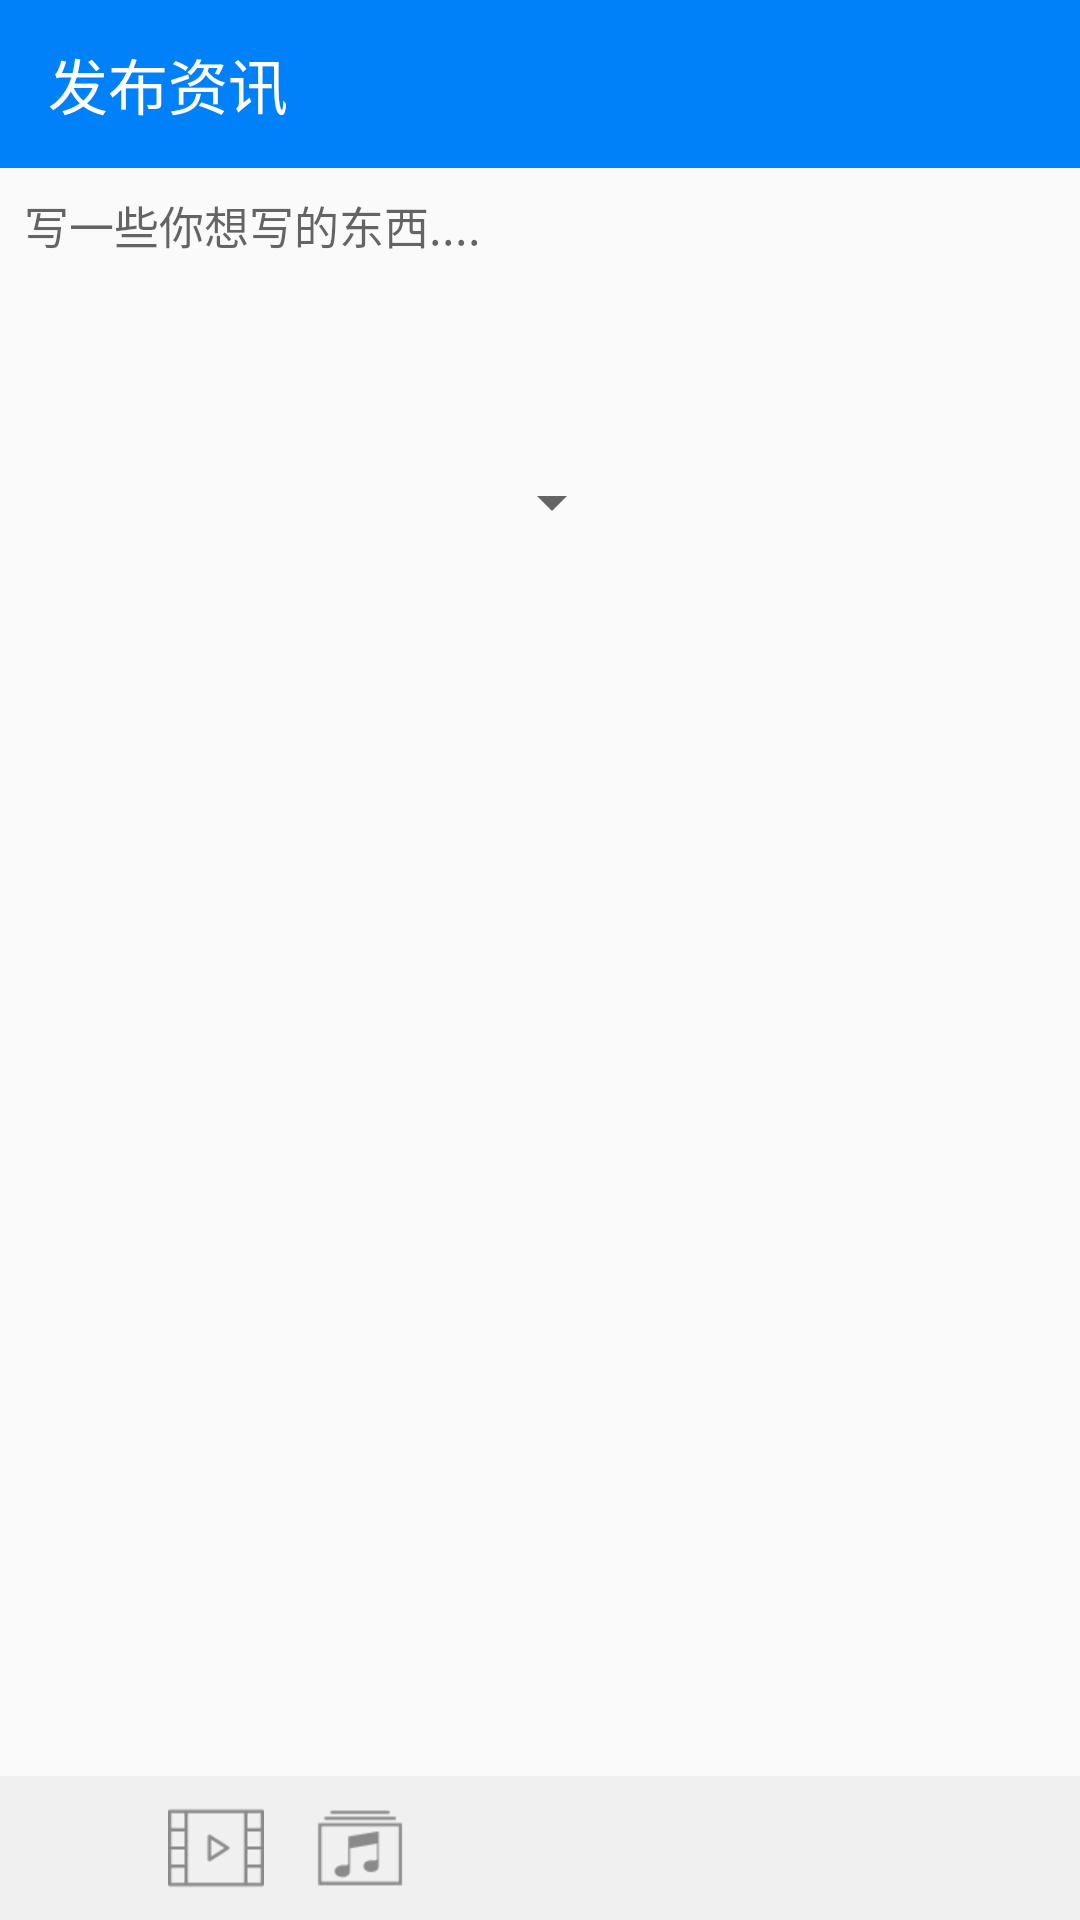

Icons on this 1080px x 1920px Android screen, each with its box as (x1, y1, x2, y2):
music: (318, 1810, 402, 1886)
video: (168, 1809, 264, 1887)
